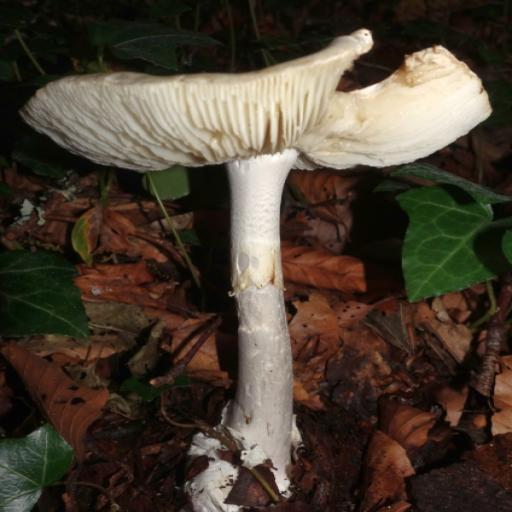mushroom: (18, 31, 387, 189), (277, 33, 500, 210), (225, 150, 304, 292)
